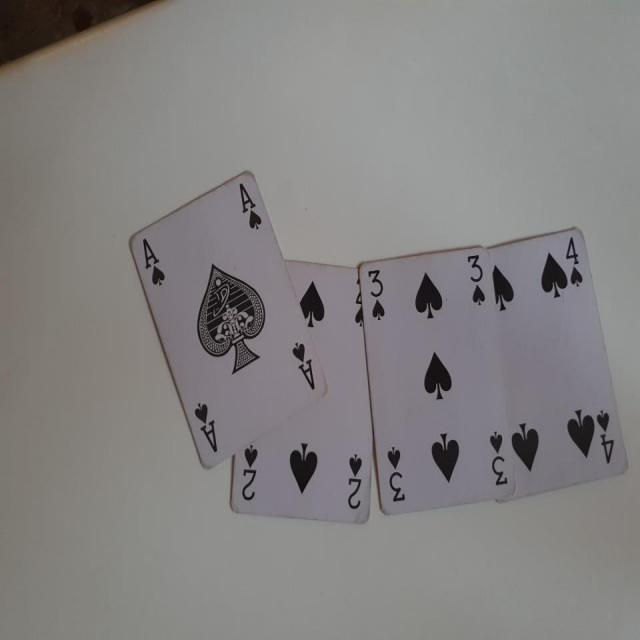2 Spades: (240, 256, 367, 530)
3 Spades: (364, 248, 508, 503)
4 Spades: (492, 238, 633, 510)
A Spades: (128, 170, 328, 468)
